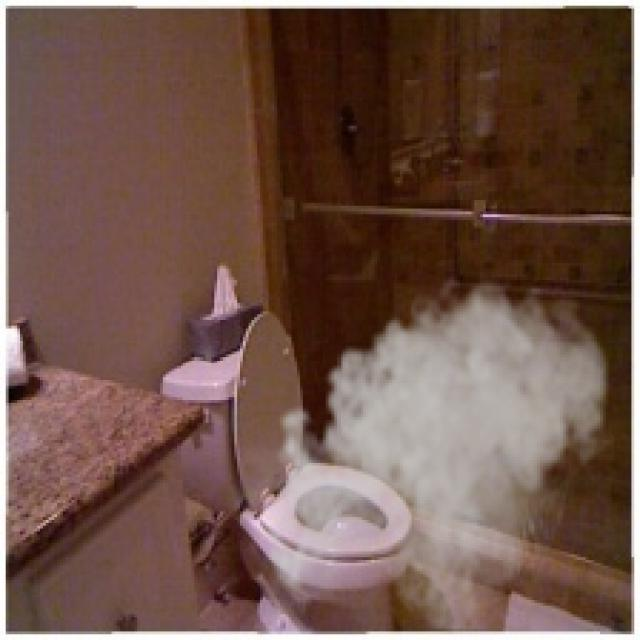smoke: (254, 269, 617, 634)
